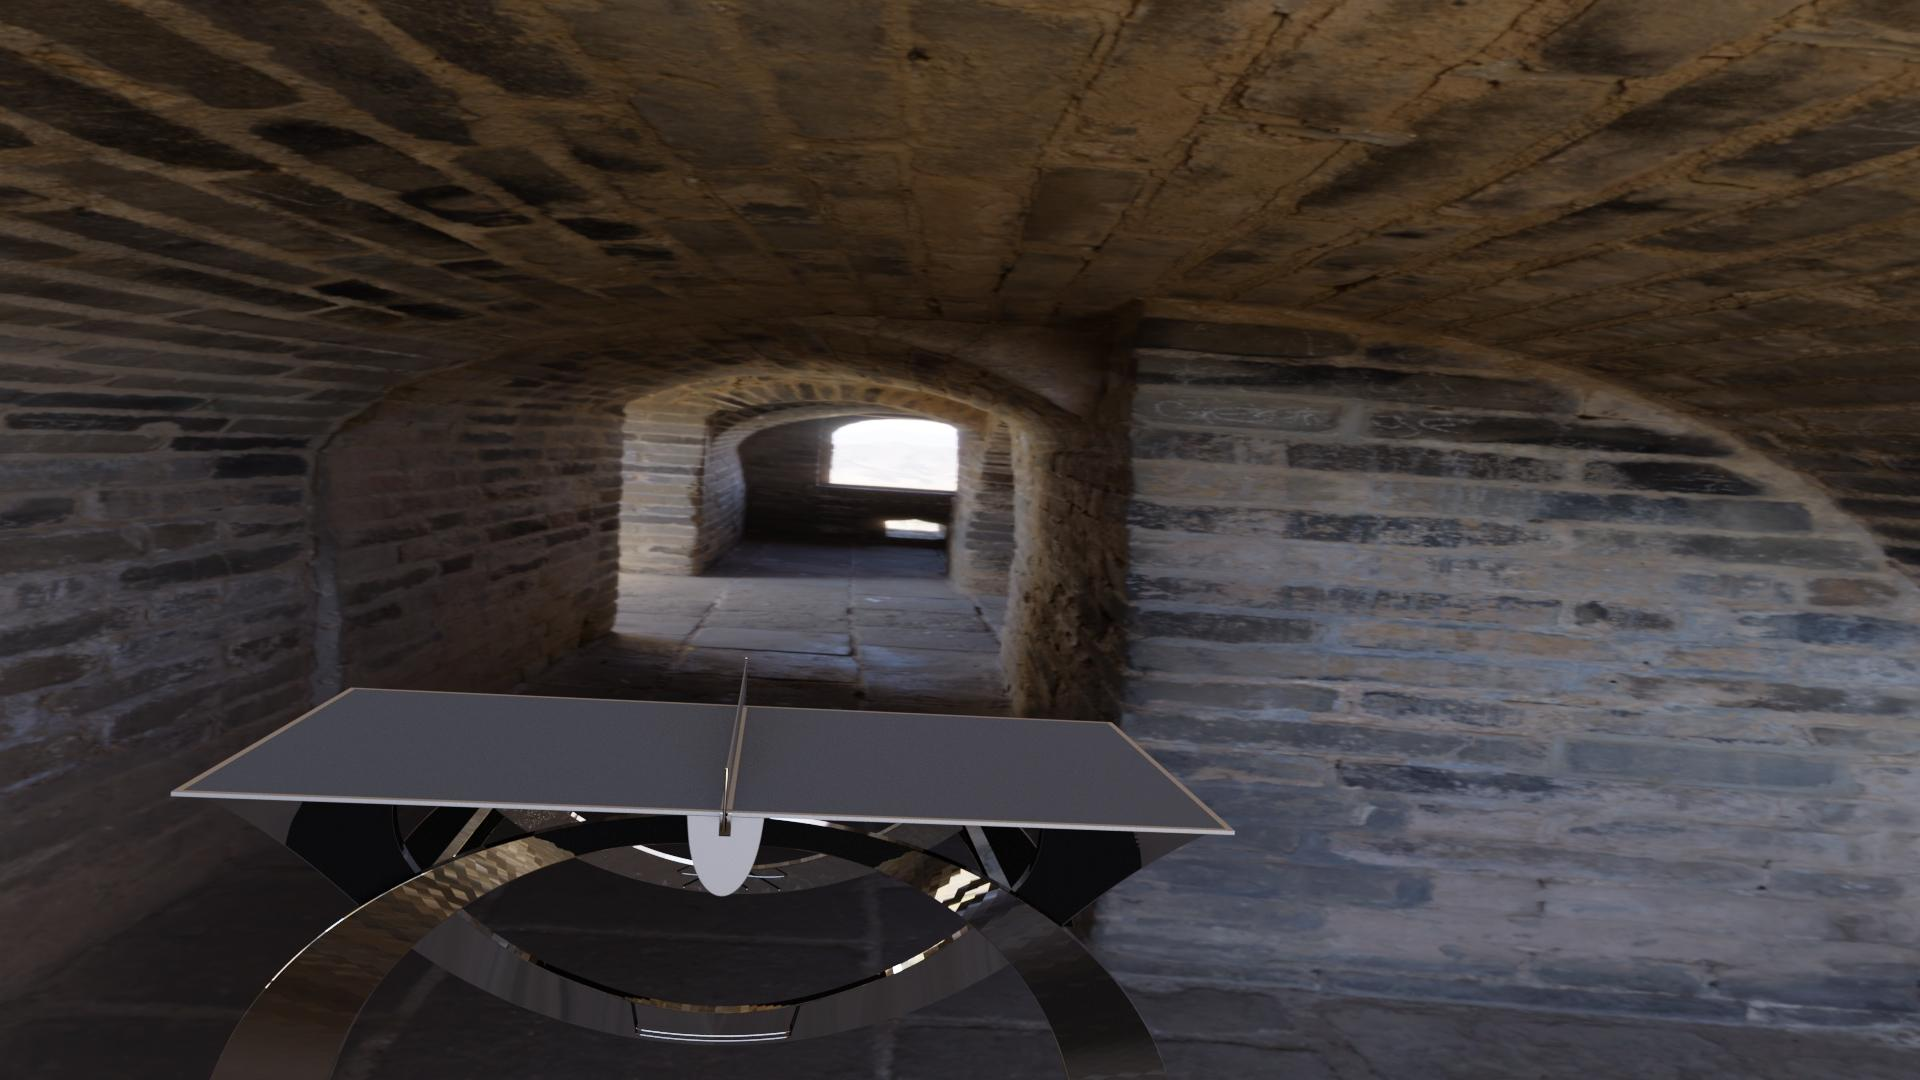table: (182, 688, 1225, 829)
